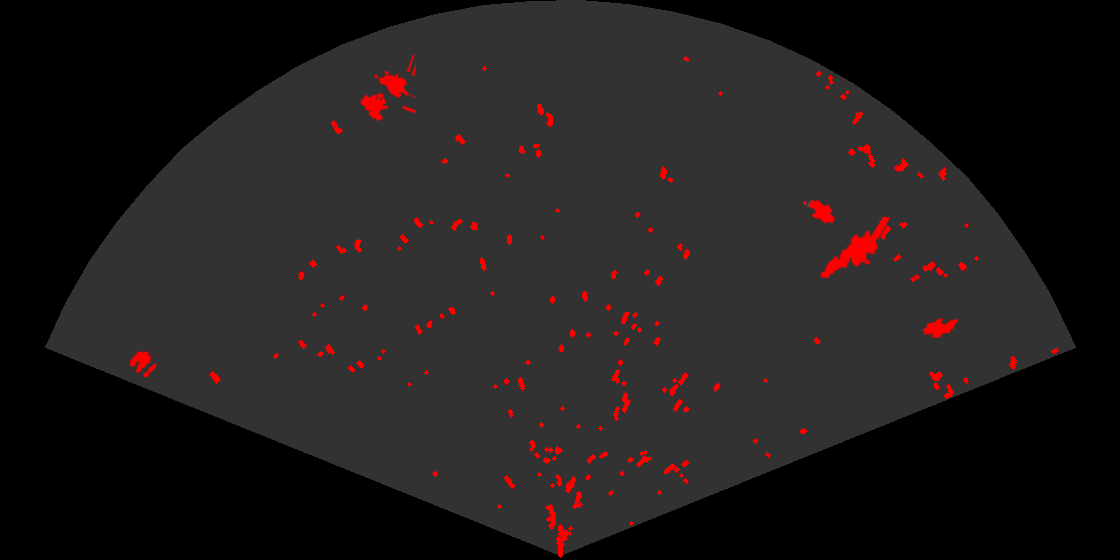AUV: (801, 198, 837, 225), (921, 316, 960, 340)
ball: (128, 349, 158, 379)
cage: (359, 55, 416, 123)
frogman: (818, 217, 889, 280)
